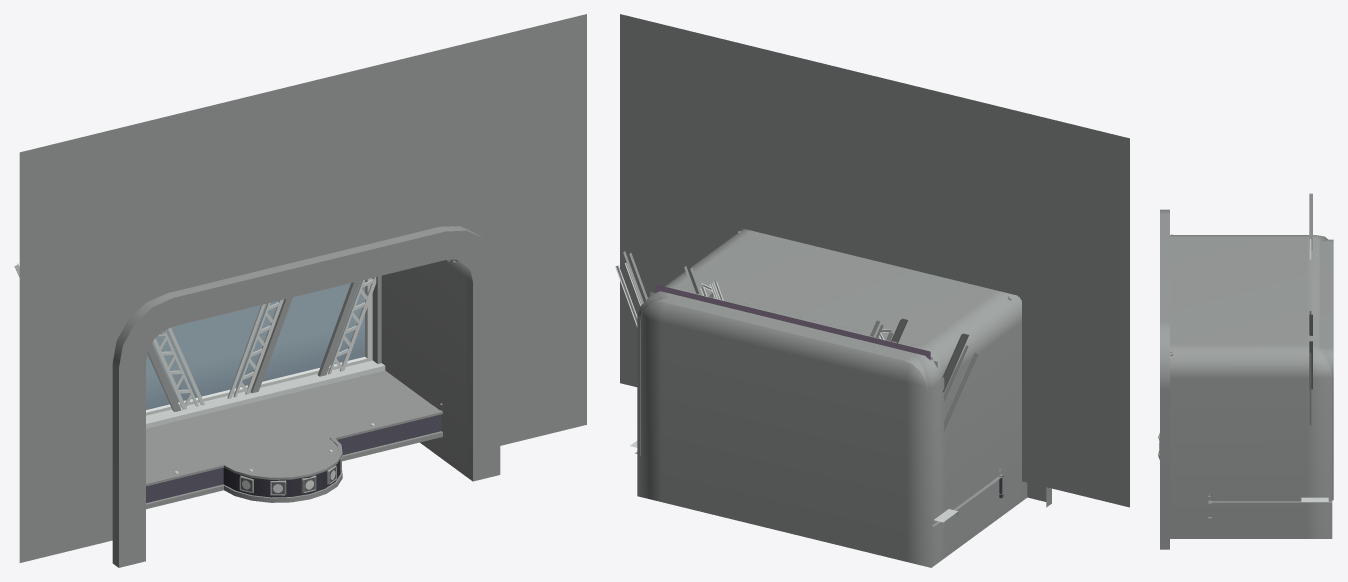
The picture shows the model from 3 angles, left to right: view 1: azimuth 30°, elevation 25°; view 2: azimuth 150°, elevation 25°; view 3: azimuth 270°, elevation 25°; orthographic projection. The views are drawn at different scales.
Visible parts, largest first — view 1: G:\FFXIV-MapTools\exports\u5f1\bg\ex4\04_uvs_u5\fld\u5f1\bgp (×8); view 2: G:\FFXIV-MapTools\exports\u5f1\bg\ex4\04_uvs_u5\fld\u5f1\bgp (×4); view 3: G:\FFXIV-MapTools\exports\u5f1\bg\ex4\04_uvs_u5\fld\u5f1\bgp (×3).
Part boxes in pixels (x1,y1,x2,y2): G:\FFXIV-MapTools\exports\u5f1\bg\ex4\04_uvs_u5\fld\u5f1\bgp (×8): [14, 14, 586, 567]; G:\FFXIV-MapTools\exports\u5f1\bg\ex4\04_uvs_u5\fld\u5f1\bgp (×4): [615, 14, 1129, 567]; G:\FFXIV-MapTools\exports\u5f1\bg\ex4\04_uvs_u5\fld\u5f1\bgp (×3): [1160, 193, 1333, 549].
Bounding box in the file's own units: 26.02 × 19 × 8.63.
